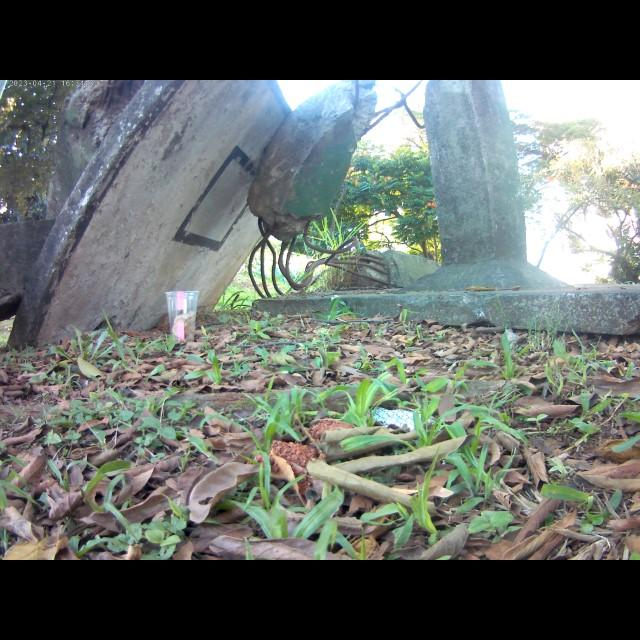detrito: (249, 279, 640, 338), (242, 83, 382, 238), (419, 80, 529, 268), (310, 244, 444, 285)
